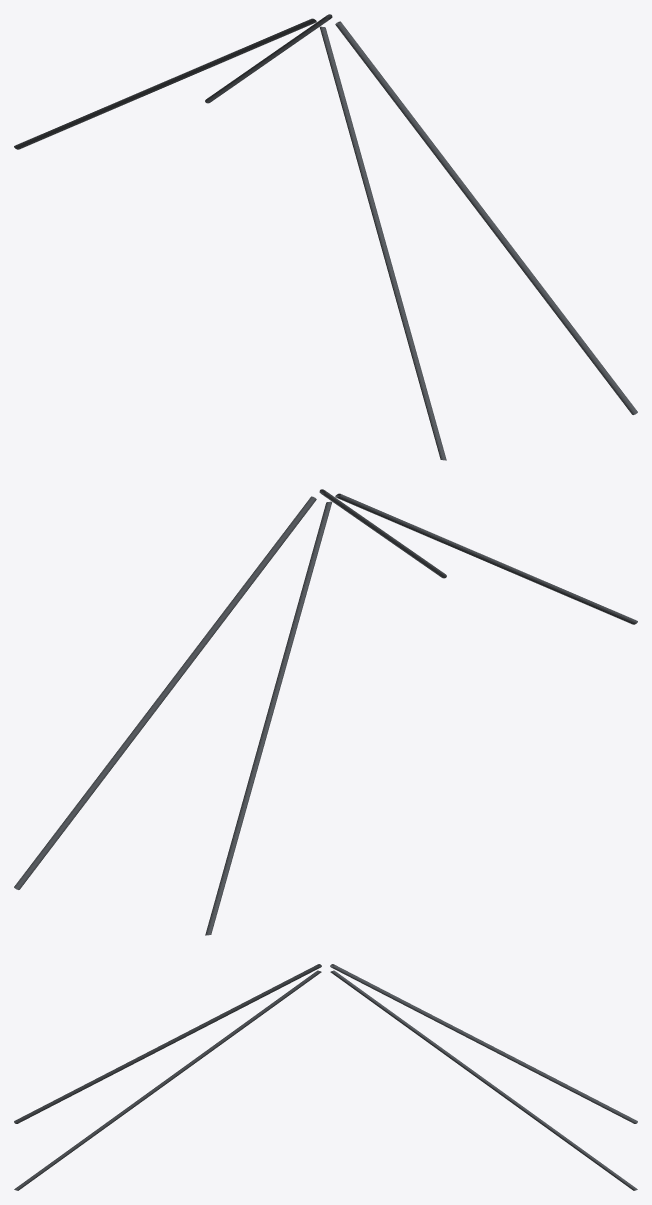
The model's file is SM_cable_01.glb.
3 renders of one model, top to bottom at view 1: azimuth 30°, elevation 25°; view 2: azimuth 150°, elevation 25°; view 3: azimuth 270°, elevation 25°, orthographic. The views are drawn at different scales.
Parts seen in each view (by area): view 1: SM_cable_01; view 2: SM_cable_01; view 3: SM_cable_01.
Boxes of the visible parts, <box> form: SM_cable_01: <box>14,14,637,460</box>; SM_cable_01: <box>14,489,637,935</box>; SM_cable_01: <box>14,964,637,1190</box>.
Size of the model in its own units: 0.7086 by 0.9003 by 2.68.
1 material, 1 textured.
